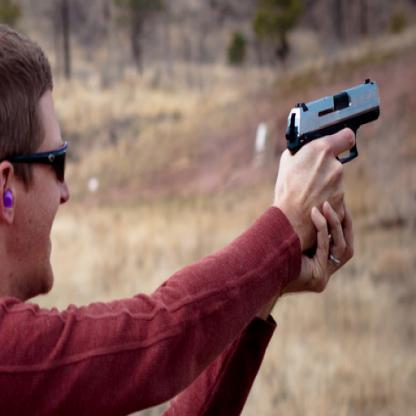gun: (281, 77, 380, 168)
